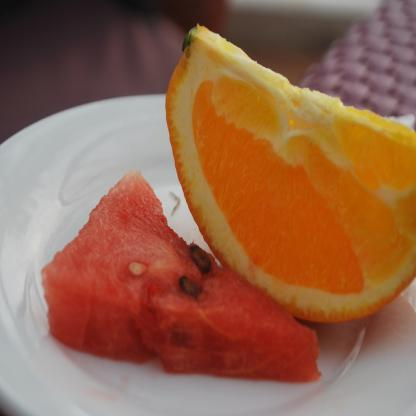Orange: (163, 21, 415, 336)
